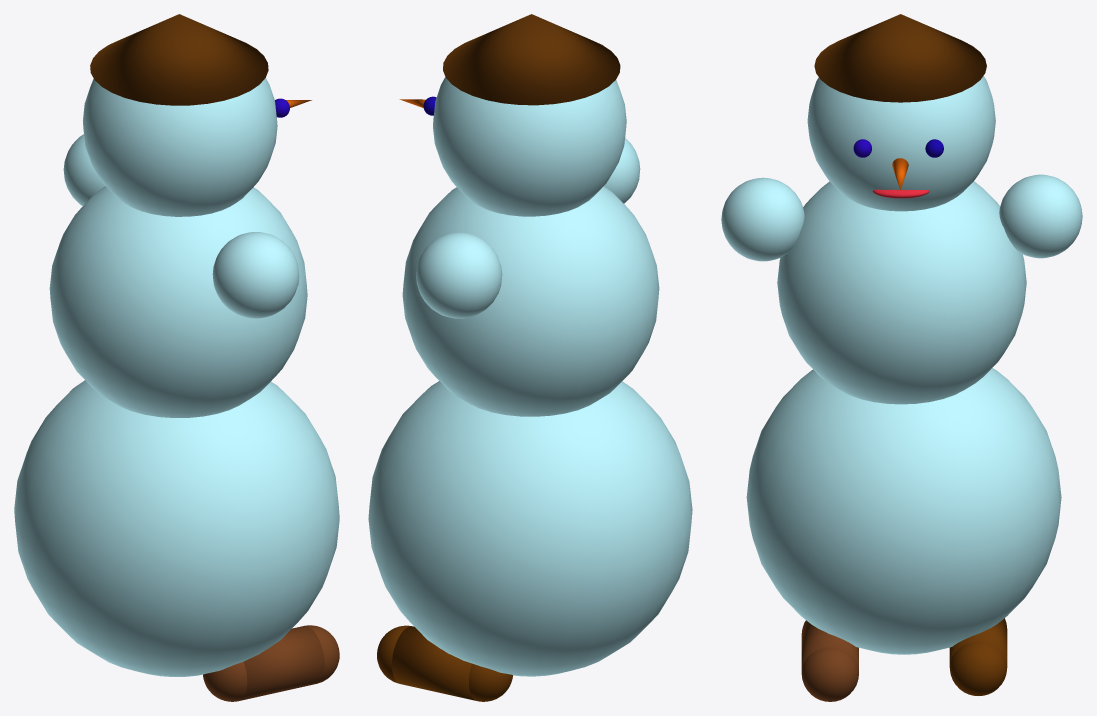
The picture shows the model from 3 angles, left to right: view 1: azimuth 30°, elevation 25°; view 2: azimuth 150°, elevation 25°; view 3: azimuth 270°, elevation 25°; orthographic projection. The views are drawn at different scales.
Visible parts, largest first — view 1: Sphere; view 2: Sphere; view 3: Sphere.
Part boxes in pixels (x1,y1,x2,y2): Sphere: [14, 14, 339, 701]; Sphere: [368, 14, 692, 701]; Sphere: [721, 14, 1082, 701].
Bounding box in the file's own units: 4.81 × 10.81 × 5.52.
